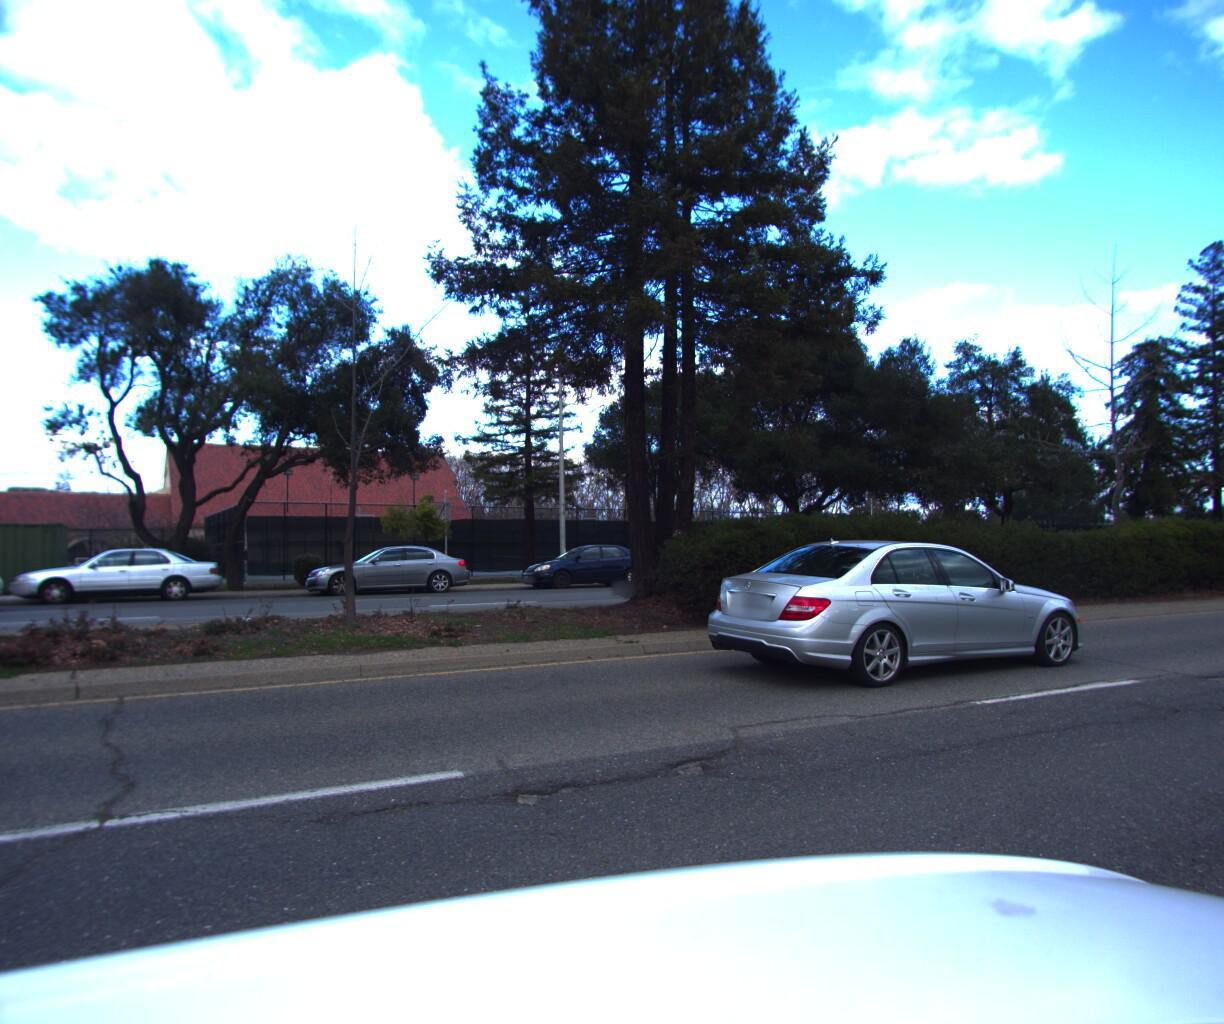car: (674, 524, 1083, 695), (0, 542, 226, 608), (298, 540, 473, 594), (510, 539, 656, 590)
